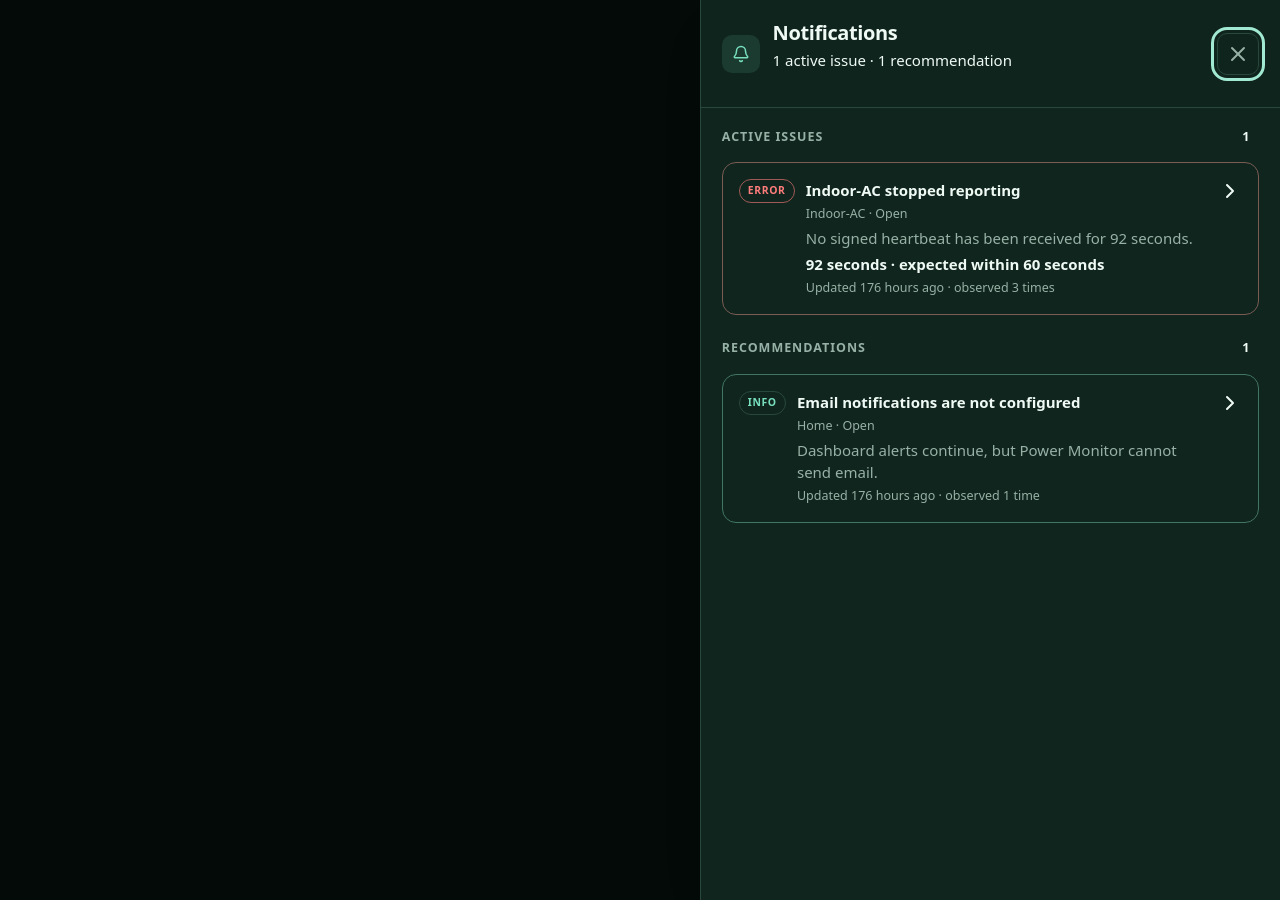
Test: detailed notification center › requires explicit confirmation before permanently ignoring SMTP setup
Click the button "Email notifications are not configured".
click(990, 448)  # box x1=723 y1=375 x2=1258 y2=522
(page scrolled)
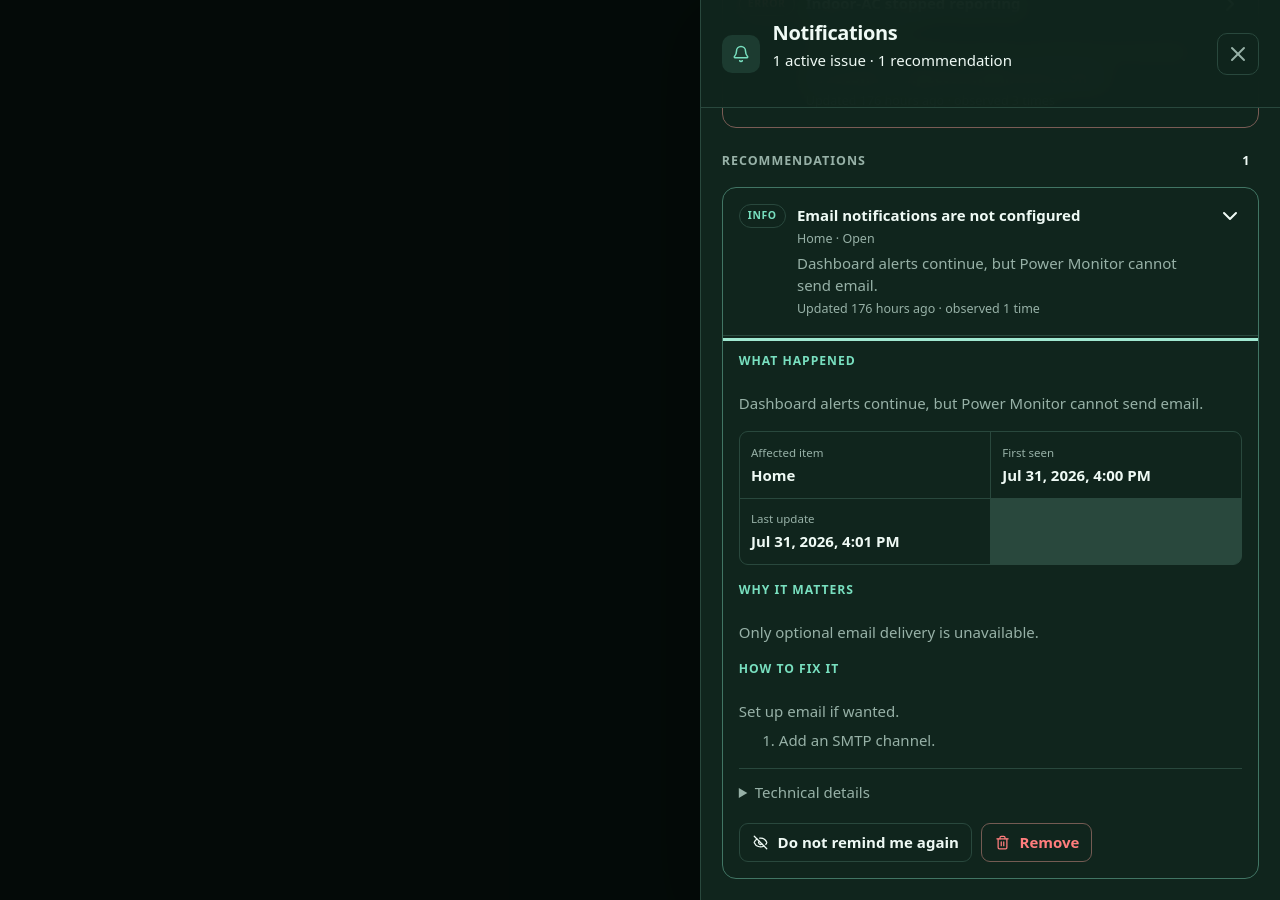
Click the button "Do not remind me again".
click(855, 842)  # box x1=739 y1=823 x2=972 y2=862
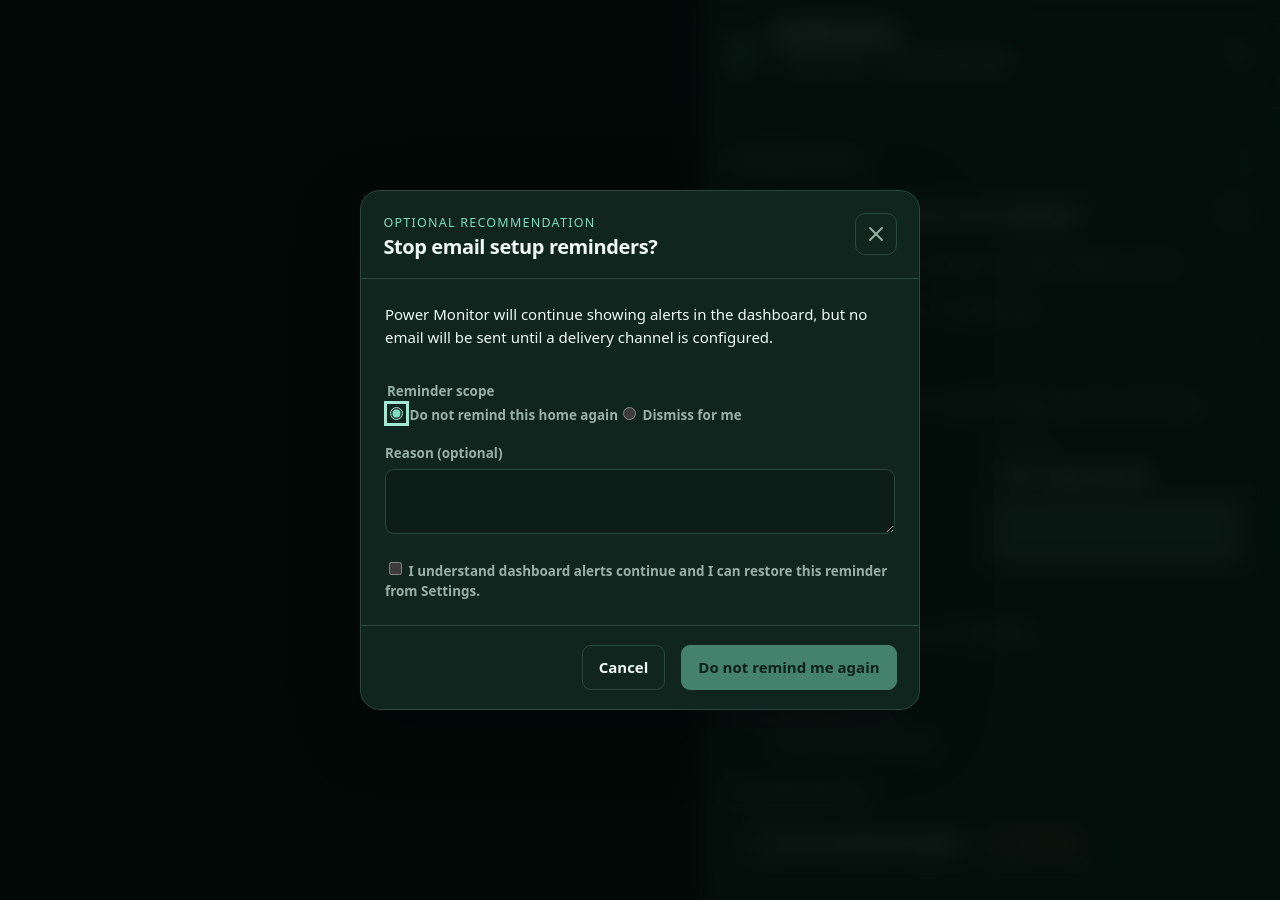
Expected: the dialog "Stop email setup reminders" is shown, x1=360 y1=190 x2=920 y2=710
Expected: the button "Do not remind me again" is disabled, x1=681 y1=645 x2=897 y2=690
Click the checkbox.
click(396, 569)  # box x1=389 y1=562 x2=402 y2=576
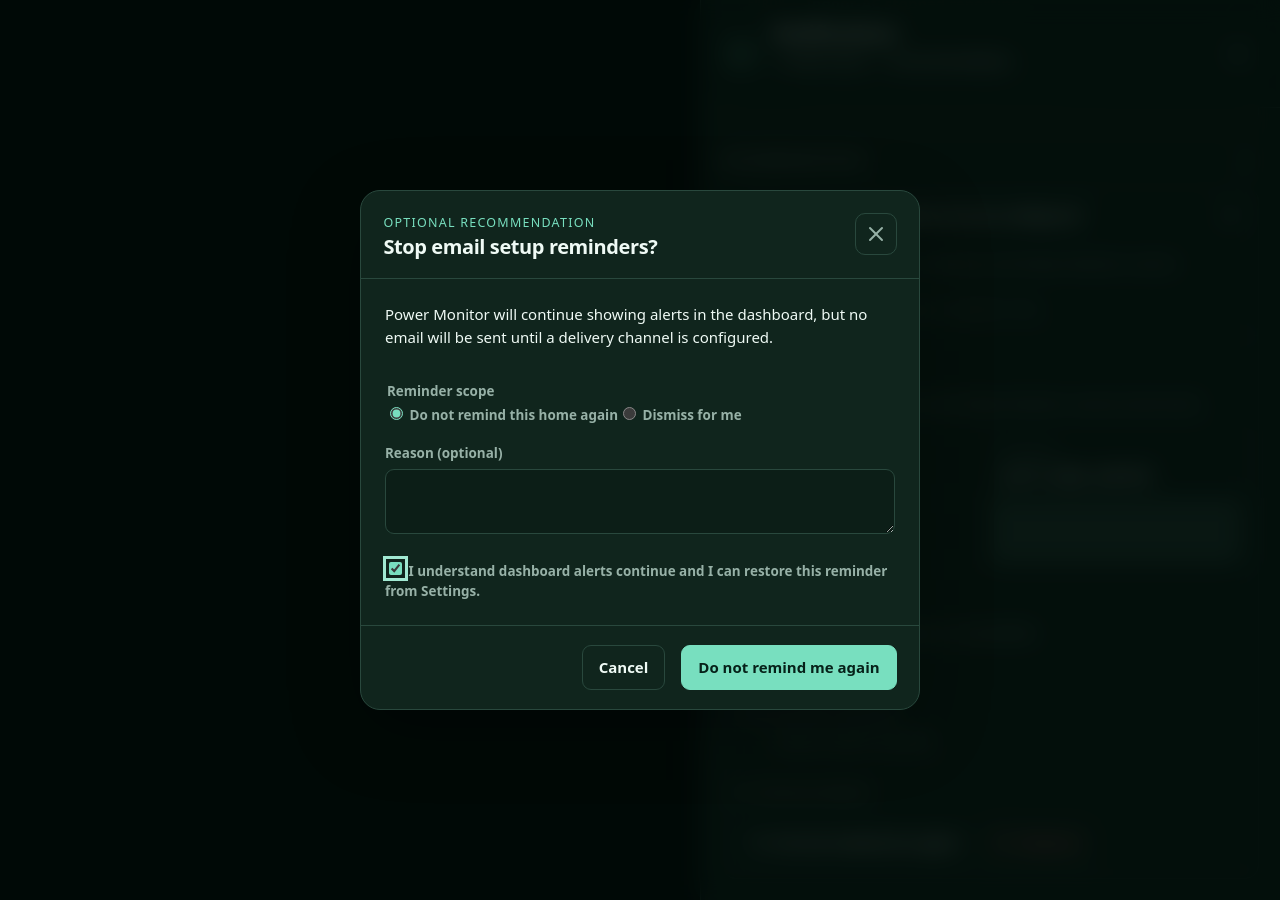
Expected: the text "dashboard alerts continue" is shown, x1=385 y1=562 x2=887 y2=600
Expected: the button "Do not remind me again" is enabled, x1=681 y1=645 x2=897 y2=690
